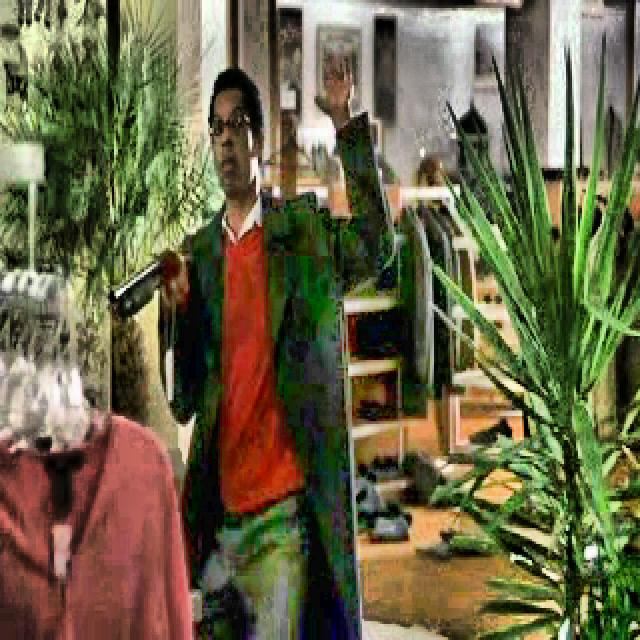L: (107, 50, 394, 637)
